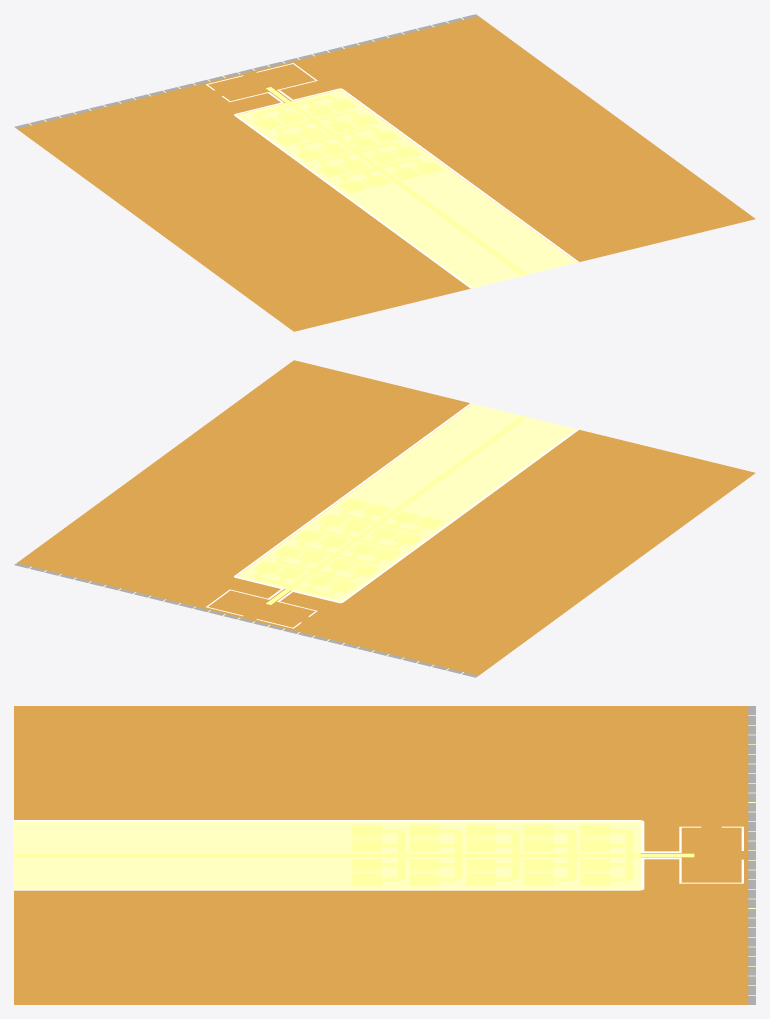
File: Map-2.fbx
The picture shows the model from 3 angles, top to bottom: view 1: azimuth 30°, elevation 25°; view 2: azimuth 150°, elevation 25°; view 3: azimuth 270°, elevation 25°; orthographic projection. The views are drawn at different scales.
Visible parts, largest first — view 1: Map-2; view 2: Map-2; view 3: Map-2.
Boxes of the visible parts, x1,y1,x2,y2 form: Map-2: (14,14,755,331); Map-2: (14,360,755,677); Map-2: (14,706,755,1004).
Size of the model in its own units: 62 by 0.02 by 65.09.
